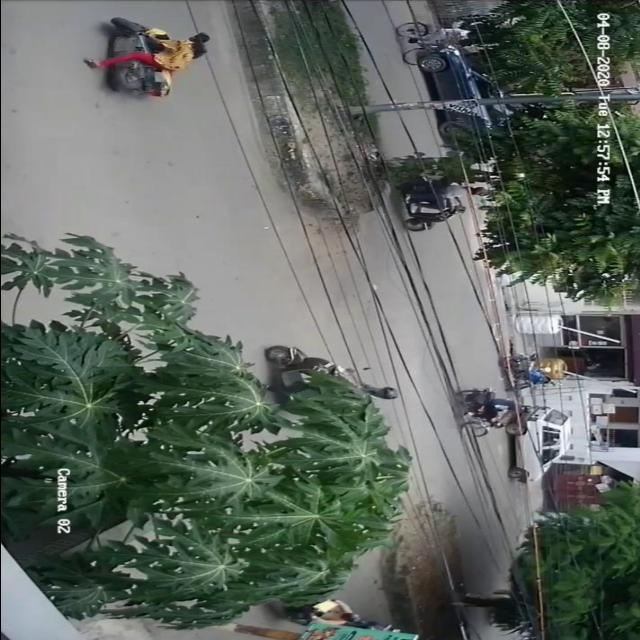accident: (78, 15, 220, 105)
